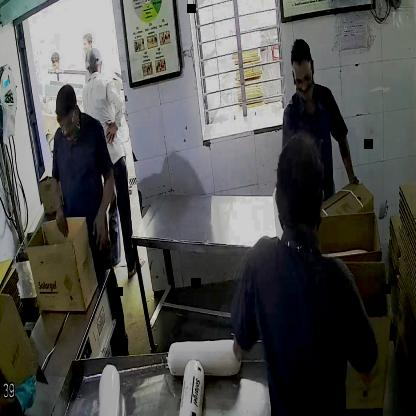goggles: (56, 106, 82, 134)
